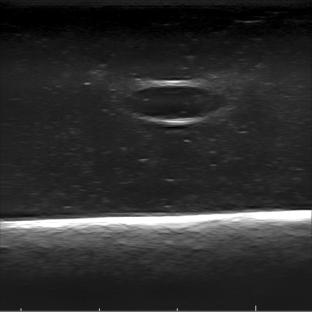vessel: (126, 79, 226, 125)
